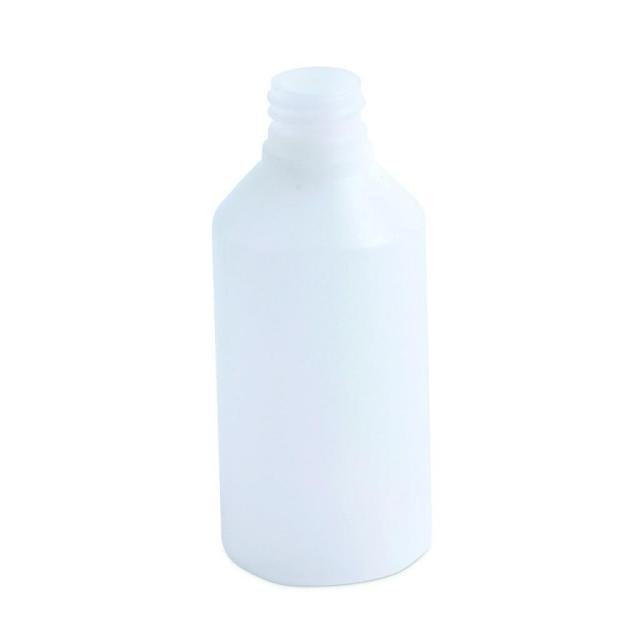plastic_bottle: (209, 58, 444, 593)
